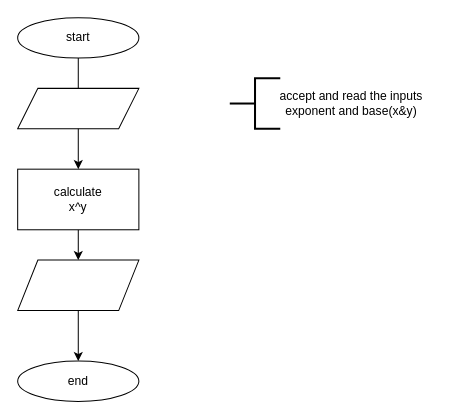
This 449x419 diagram has some shape labels left out. The shapes that lost their labels are listed below. From the top down, each one's box as (x1, y1, x2, y2) in pixels, then its label:
(17, 87, 139, 129): accept input x&y
(17, 259, 139, 311): print the output
